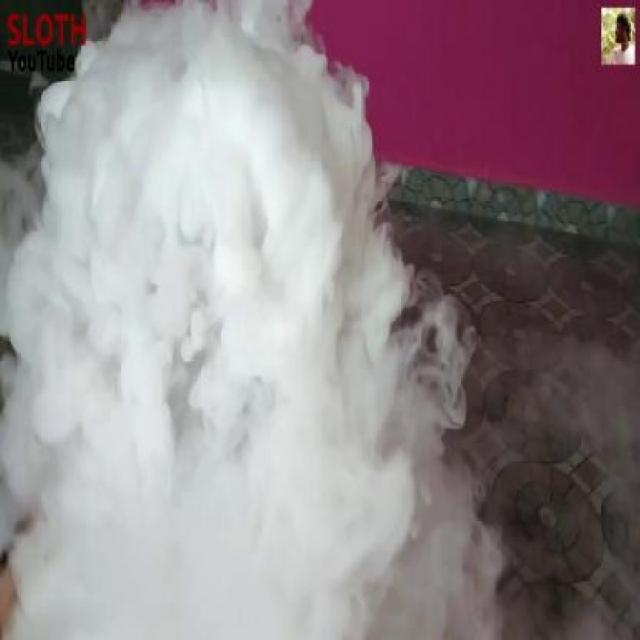smoke: (2, 6, 495, 634)
